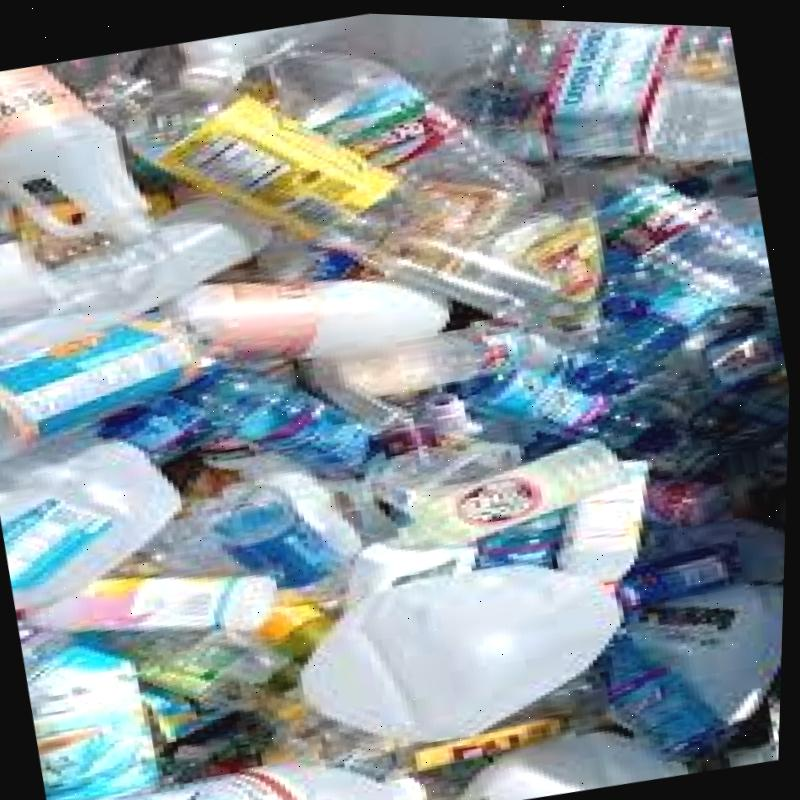botella: (100, 17, 445, 296), (264, 8, 551, 250), (420, 12, 754, 205), (381, 421, 650, 571), (183, 330, 414, 504), (530, 144, 773, 309), (363, 188, 580, 348), (556, 255, 763, 400), (194, 462, 381, 618), (574, 617, 746, 783), (464, 335, 664, 468), (340, 300, 582, 405), (109, 360, 251, 471)
